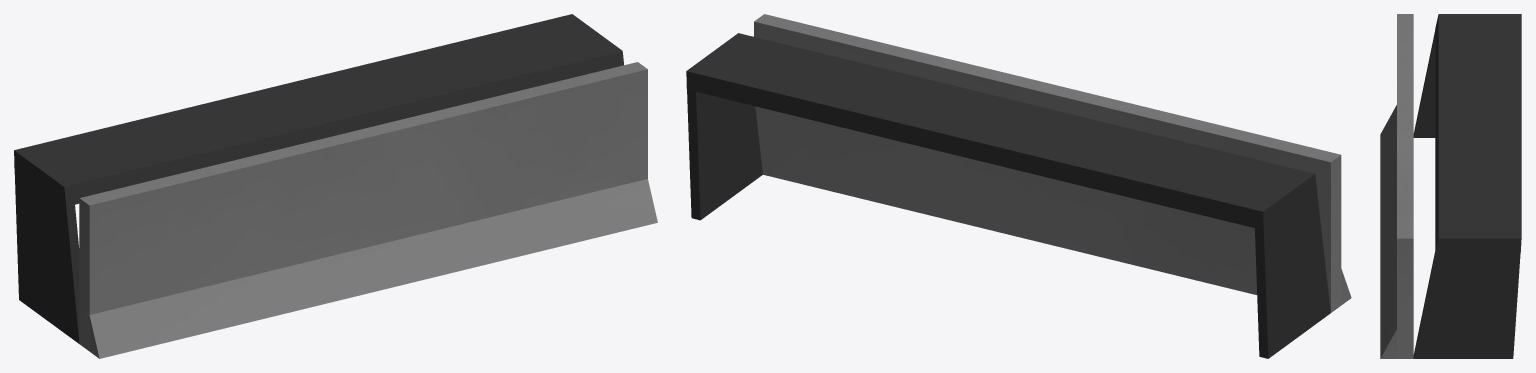
The model's file is dc_metro_roof_o12.obj.
3 views of the same model, side by side, from view 1: azimuth 30°, elevation 25°; view 2: azimuth 150°, elevation 25°; view 3: azimuth 270°, elevation 25° (orthographic). The views are drawn at different scales.
Visible parts, largest first — view 1: part12; view 2: part12; view 3: part12.
Boxes of the visible parts, box(x1,y1,x2,y2) form: part12: box(14, 14, 657, 358); part12: box(686, 14, 1351, 358); part12: box(1380, 14, 1521, 358).
Size of the model in its own units: 4 by 1 by 1.06.
Materials: 2 (2 with a texture image).
